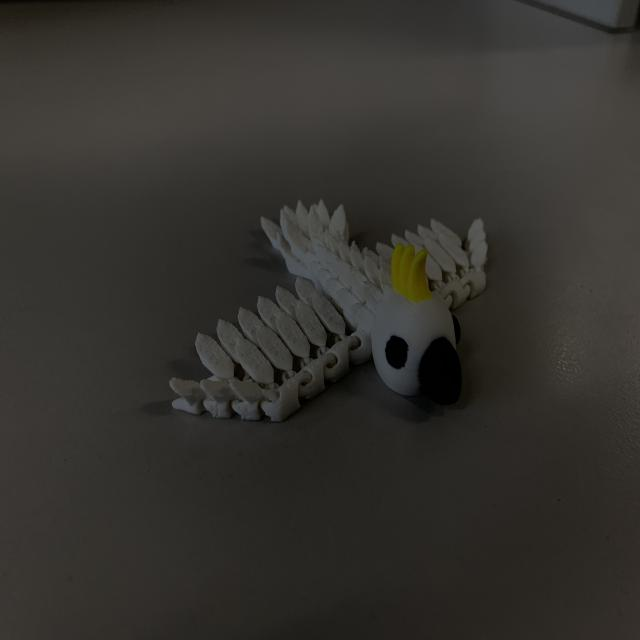cockatoo: (260, 195, 484, 398)
